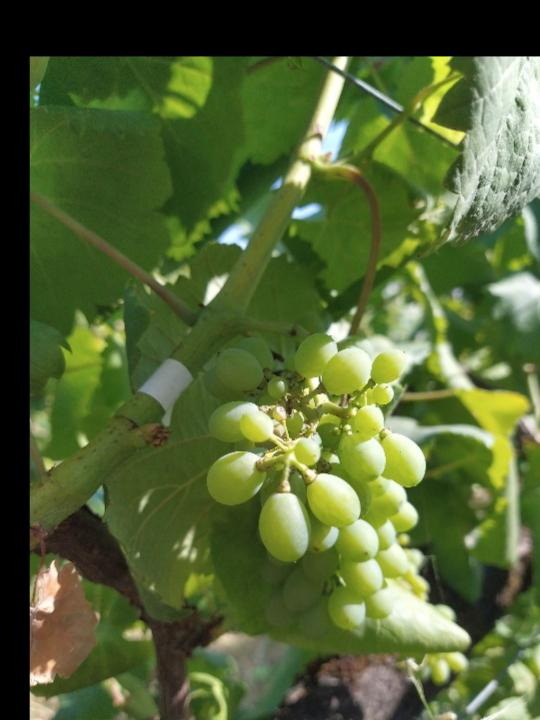grape: (195, 322, 428, 640)
